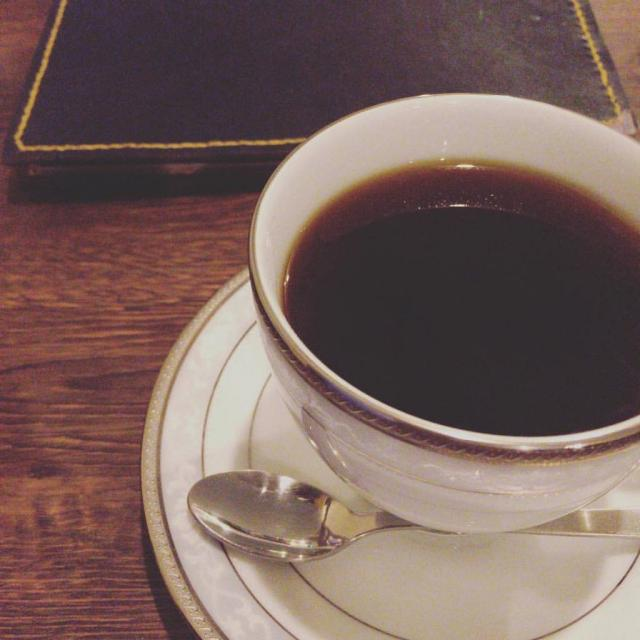Coffee: (256, 85, 632, 511)
Tea: (285, 157, 639, 436)
